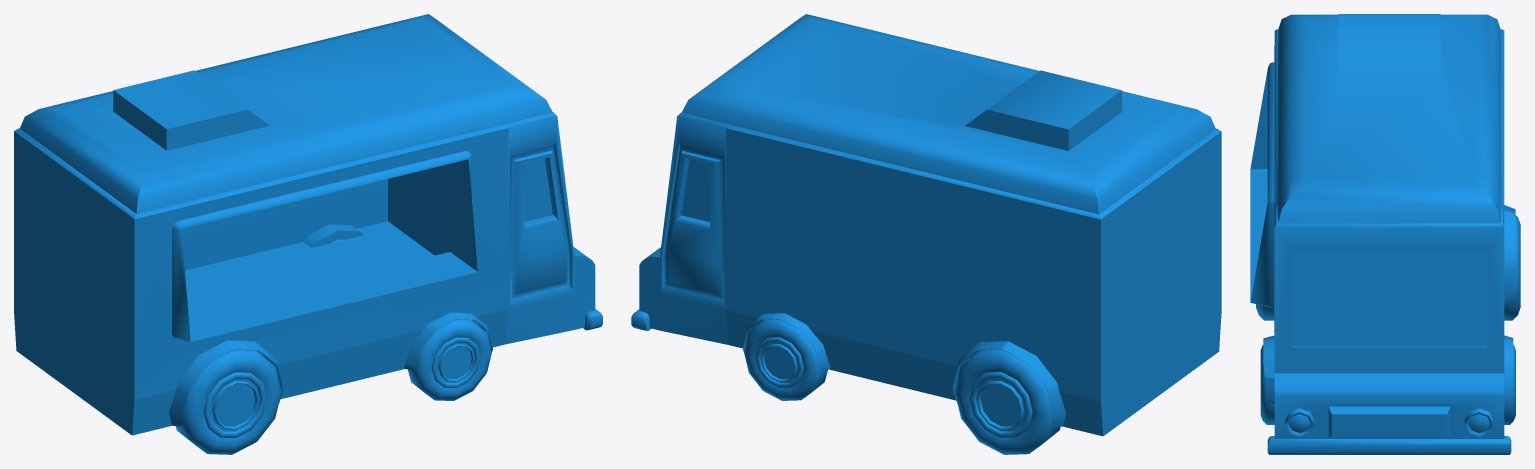
File: foodtruck.fbx
The picture shows the model from 3 angles, left to right: view 1: azimuth 30°, elevation 25°; view 2: azimuth 150°, elevation 25°; view 3: azimuth 270°, elevation 25°; orthographic projection. The views are drawn at different scales.
Parts seen in each view (by area): view 1: Foodtruck; view 2: Foodtruck; view 3: Foodtruck.
Boxes of the visible parts, box(x1,y1,x2,y2) form: Foodtruck: box(14, 14, 602, 454); Foodtruck: box(631, 14, 1221, 454); Foodtruck: box(1250, 14, 1520, 454).
Bounding box in the file's own units: 1582 × 988 × 832.
